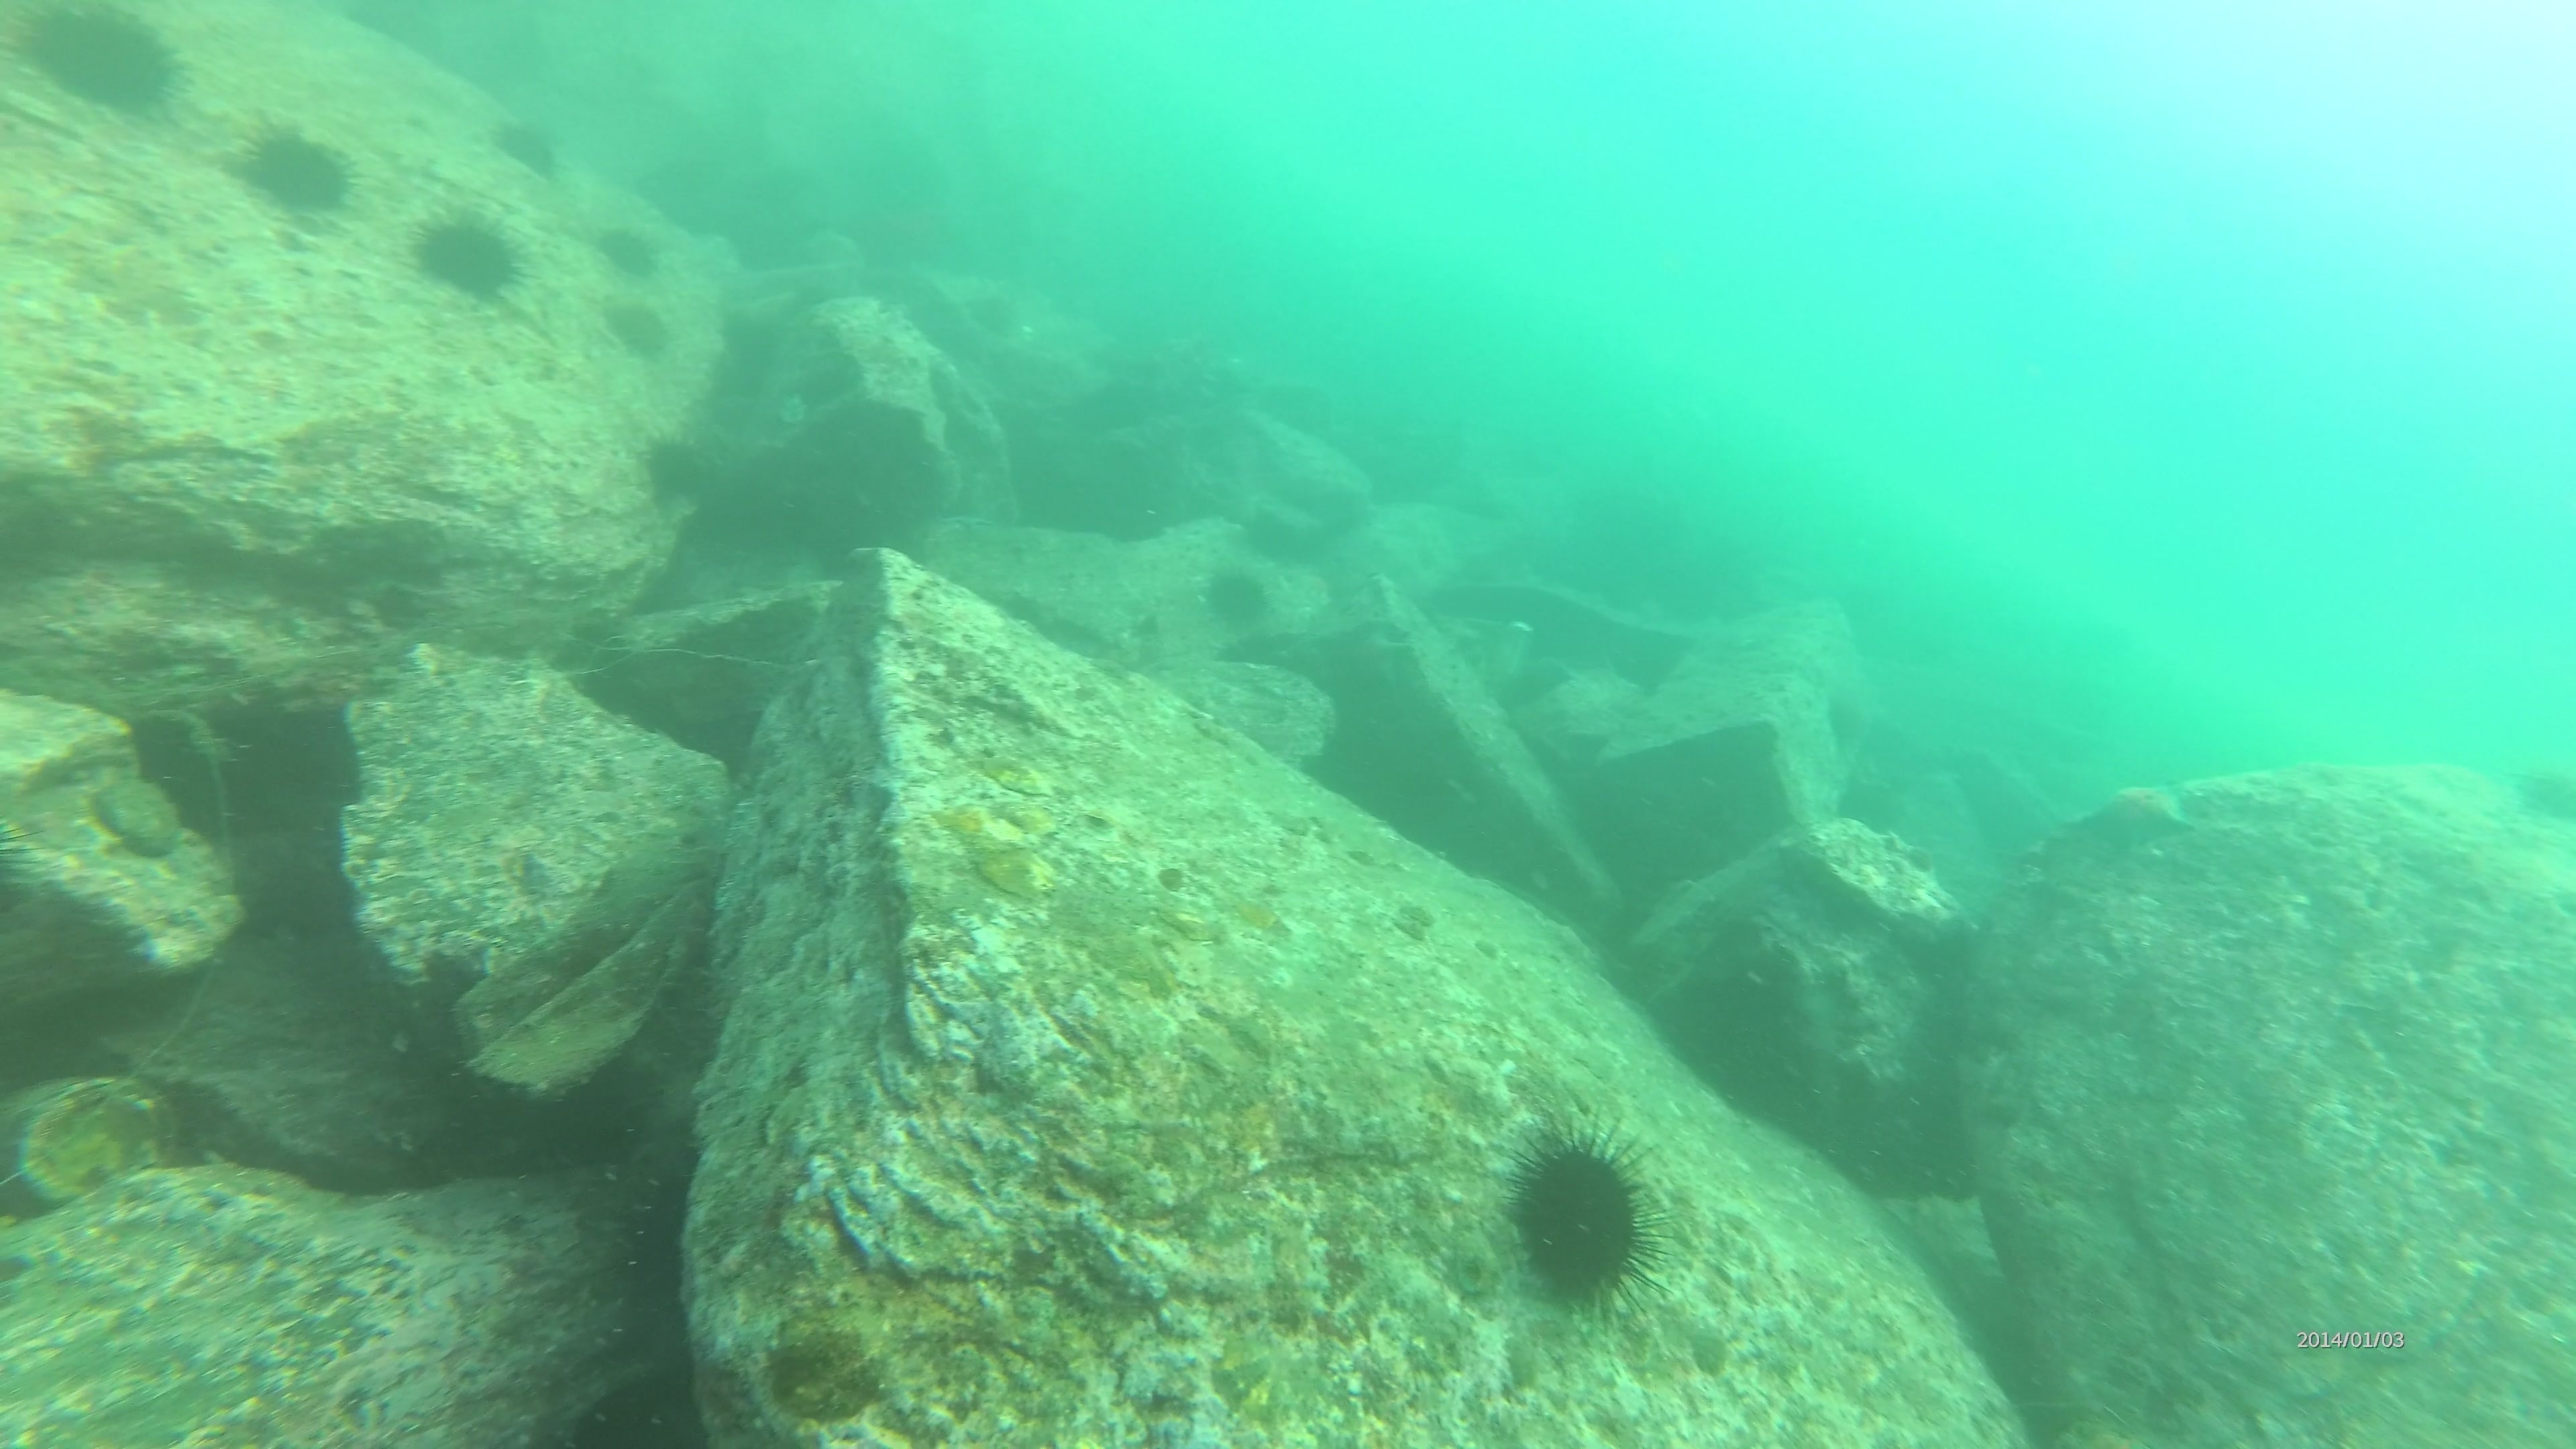echinus: (1497, 1118, 1668, 1313), (11, 4, 191, 127), (234, 119, 359, 225), (407, 205, 527, 308), (633, 426, 718, 513), (1196, 561, 1277, 637), (600, 294, 676, 366), (488, 111, 566, 182), (591, 218, 667, 285), (2509, 757, 2576, 826)
starfish: (2074, 771, 2204, 858)
